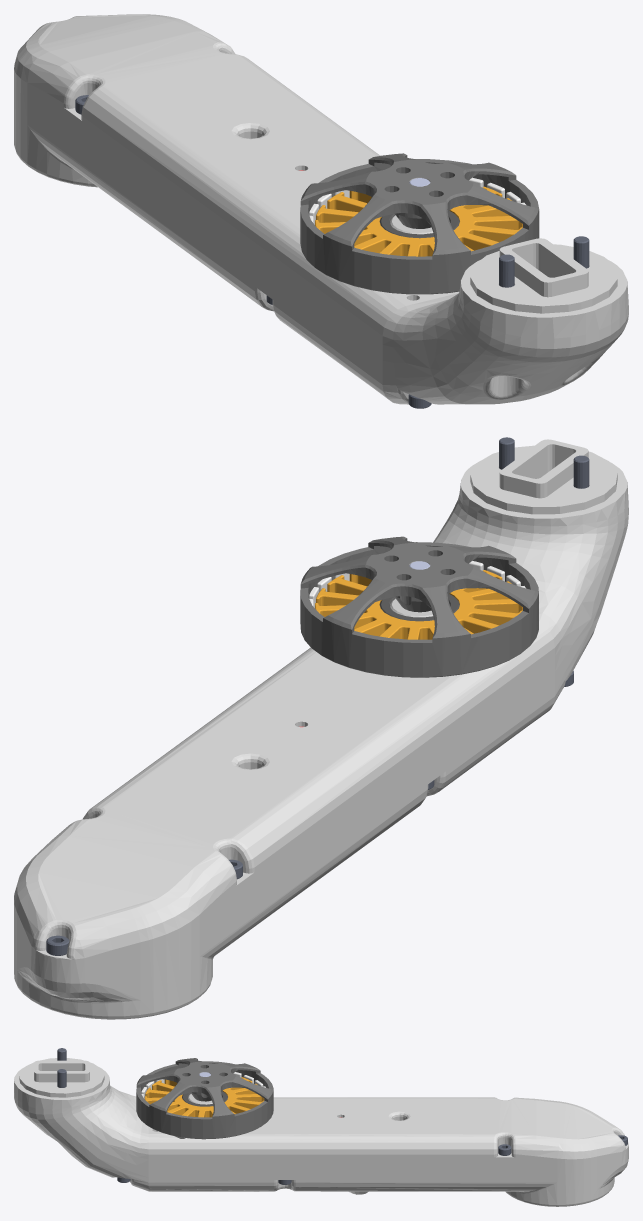
File: solo_upper_leg_right_side.obj
3 renders of one model, top to bottom at view 1: azimuth 30°, elevation 25°; view 2: azimuth 150°, elevation 25°; view 3: azimuth 270°, elevation 25°, orthographic. The views are drawn at different scales.
Size of the model in its own units: 0.0444 by 0.044 by 0.1986.
